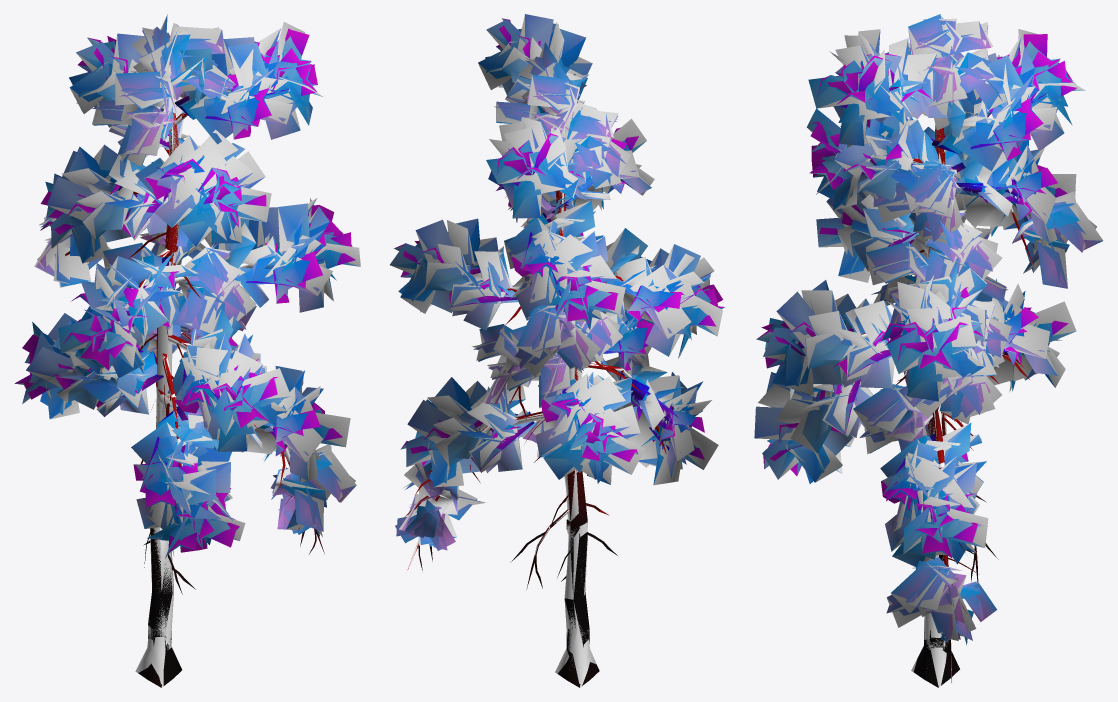
File: pine_radiata_weathered.dae
3 renders of one model, left to right at view 1: azimuth 30°, elevation 25°; view 2: azimuth 150°, elevation 25°; view 3: azimuth 270°, elevation 25°, orthographic. The views are drawn at different scales.
Visible parts, largest first — view 1: pine_radiata_weathered_a1000, pine_radiata_weathered_a500, Colmesh-1; view 2: pine_radiata_weathered_a1000, pine_radiata_weathered_a500, Colmesh-1; view 3: pine_radiata_weathered_a1000, pine_radiata_weathered_a500.
Part boxes in pixels (box(x1,y1,x2,y2)): pine_radiata_weathered_a1000: box(15, 14, 359, 687); pine_radiata_weathered_a500: box(14, 16, 360, 687); Colmesh-1: box(148, 99, 178, 649); pine_radiata_weathered_a1000: box(390, 14, 724, 687); pine_radiata_weathered_a500: box(390, 15, 724, 687); Colmesh-1: box(555, 192, 589, 669); pine_radiata_weathered_a1000: box(754, 14, 1102, 687); pine_radiata_weathered_a500: box(755, 16, 1103, 687).
Bounding box in the file's own units: 11.82 × 10.92 × 23.47.
